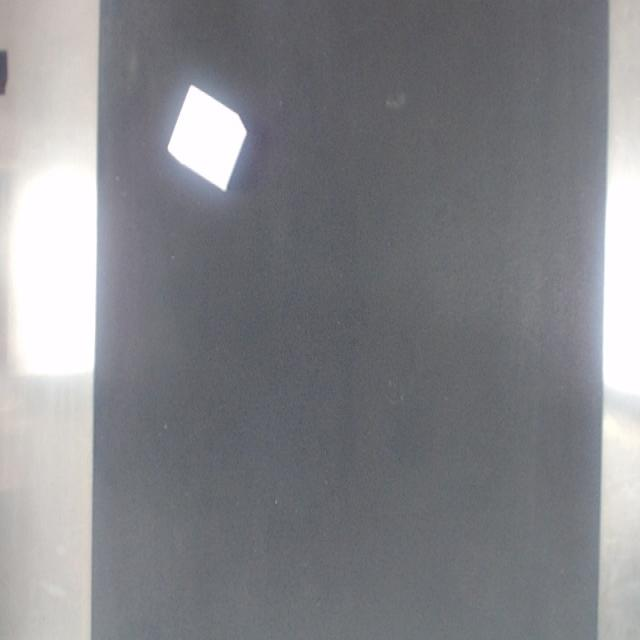Blanco: (167, 85, 246, 191)
